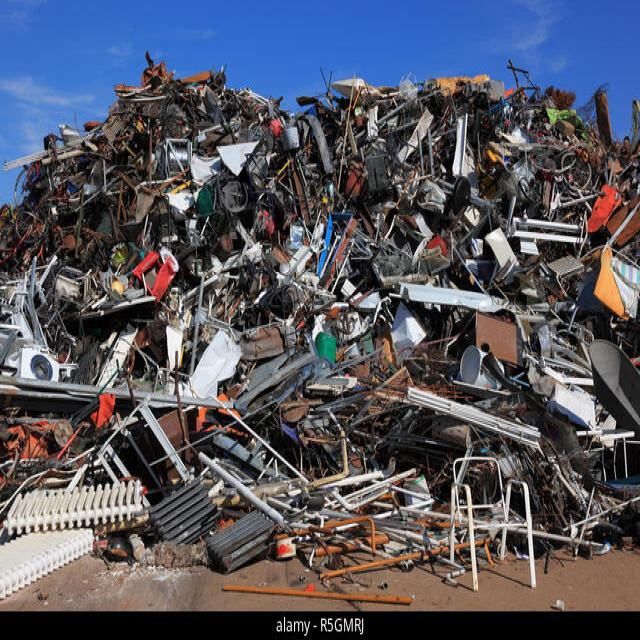metal: (79, 93, 581, 517)
